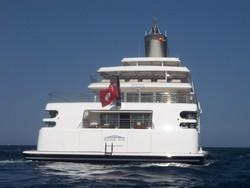yacht: (28, 18, 207, 163)
